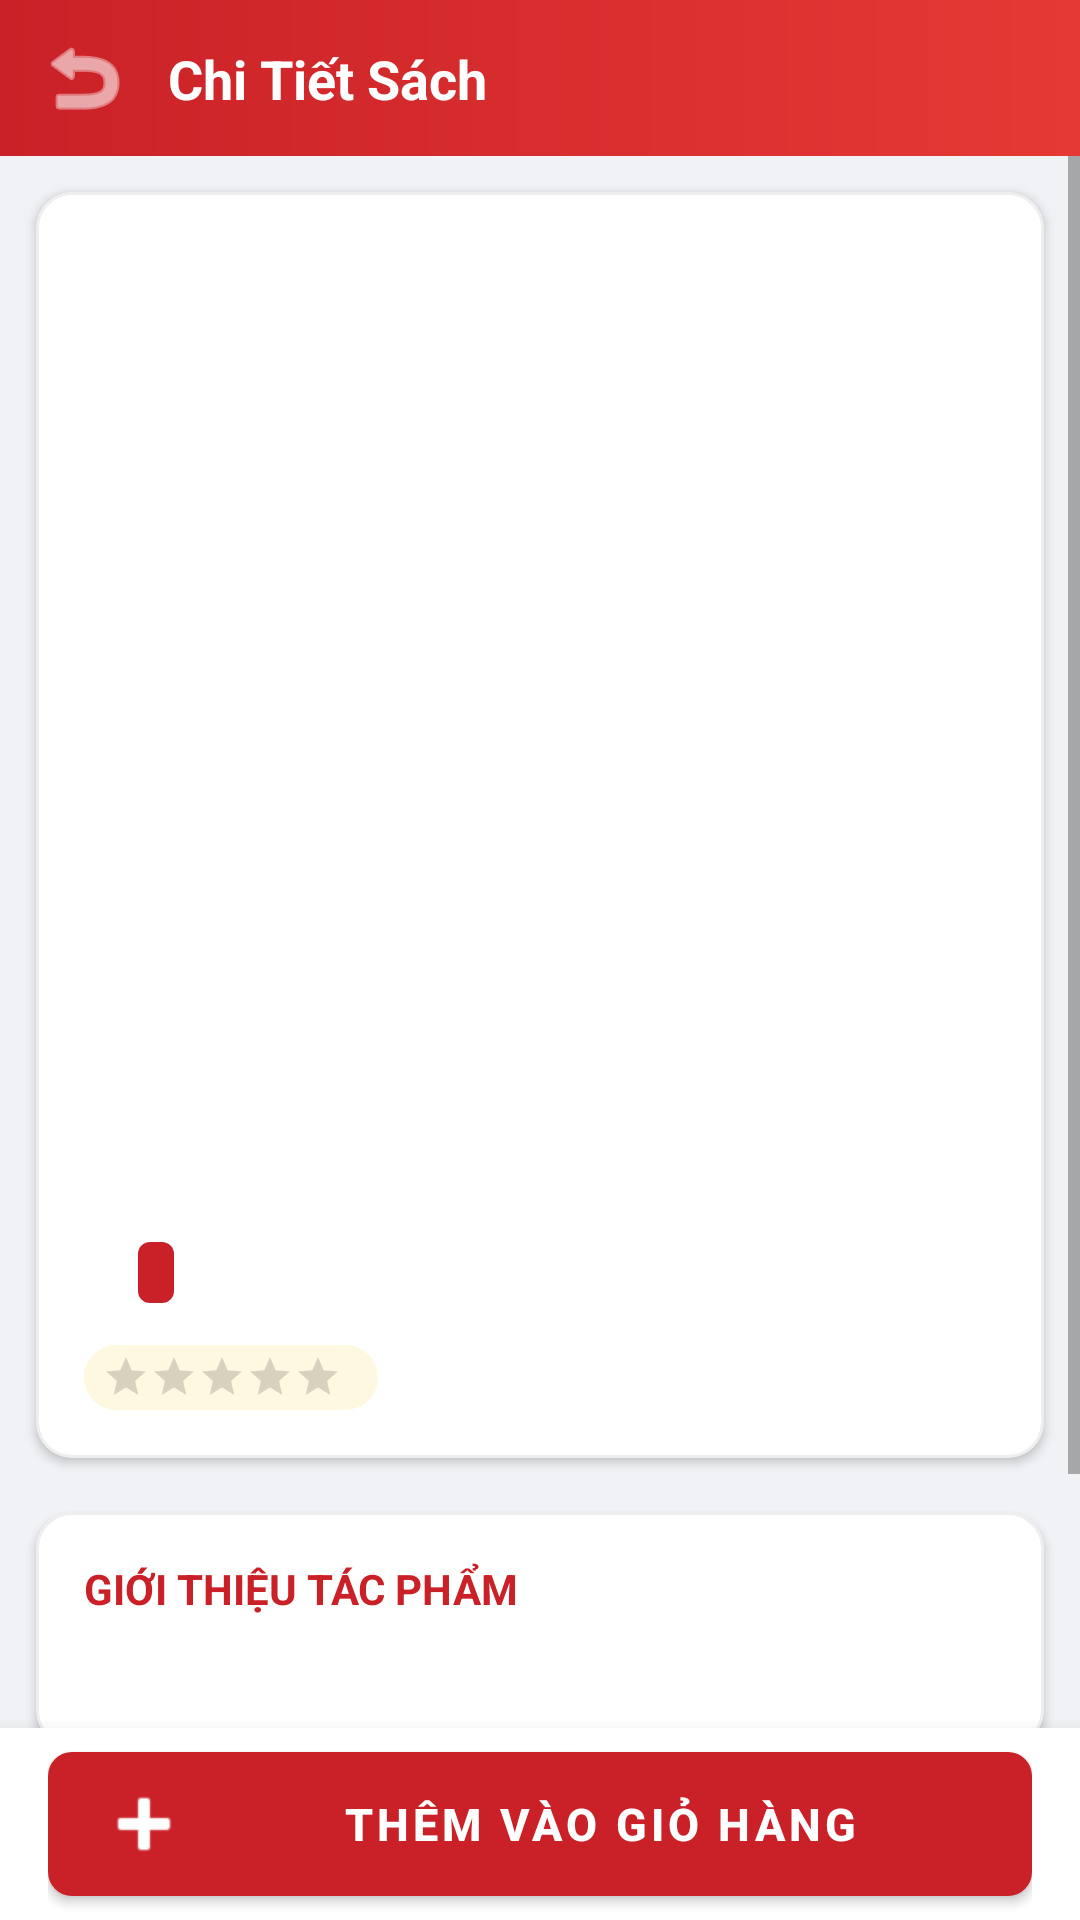

Icons on this 1080px x 1920px Android screen, each with the point to tap as (x=x, y=y):
revert: (x=85, y=78)
